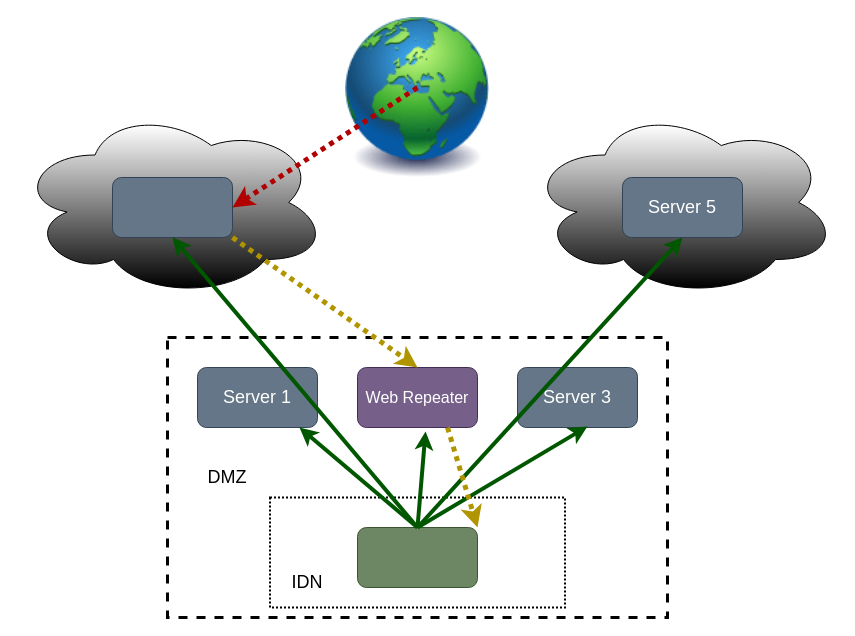
Image size: 855x636. Some labels were removed from this diagram. The centre of each missing label's shape, as x and y in pixels:
Server 4: (x=172, y=207)
TABLE Server: (x=417, y=557)
